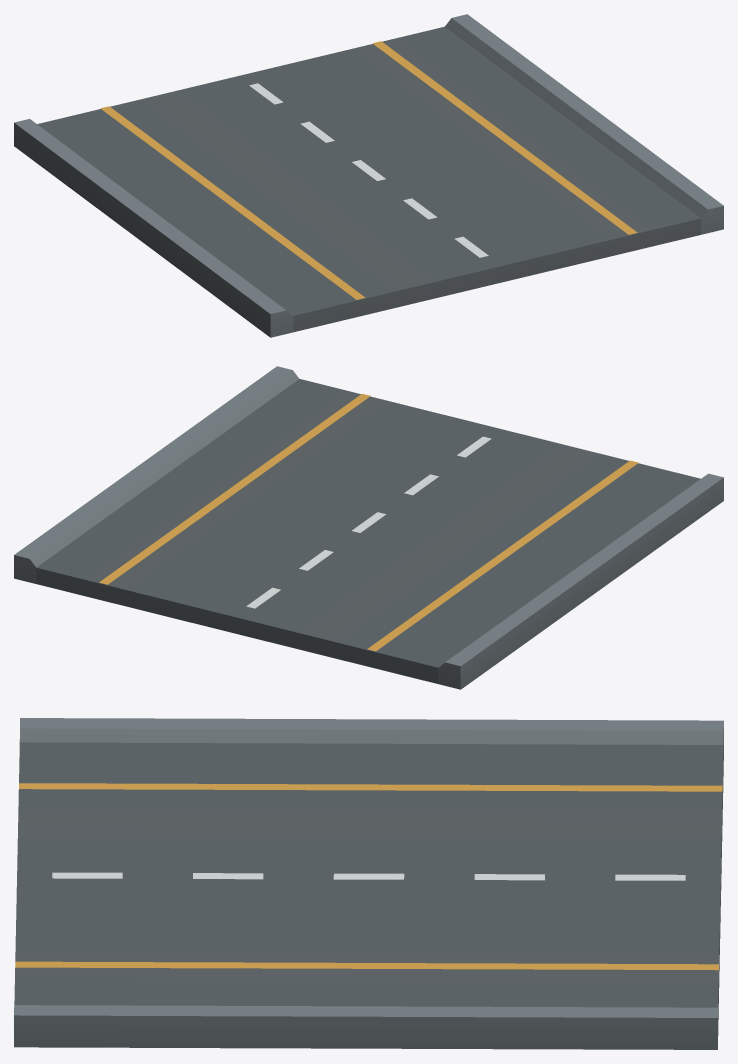
The model's file is road16_lev3.glb.
The picture shows the model from 3 angles, top to bottom: view 1: azimuth 30°, elevation 25°; view 2: azimuth 150°, elevation 25°; view 3: azimuth 270°, elevation 25°; orthographic projection. The views are drawn at different scales.
Parts seen in each view (by area): view 1: road_straight.024; view 2: road_straight.024; view 3: road_straight.024.
Part boxes in pixels (x1,y1,x2,y2): road_straight.024: (14,14,723,337); road_straight.024: (14,366,723,689); road_straight.024: (14,718,723,1049).
Size of the model in its own units: 18.78 by 0.9321 by 18.78.
1 material, 1 textured.
